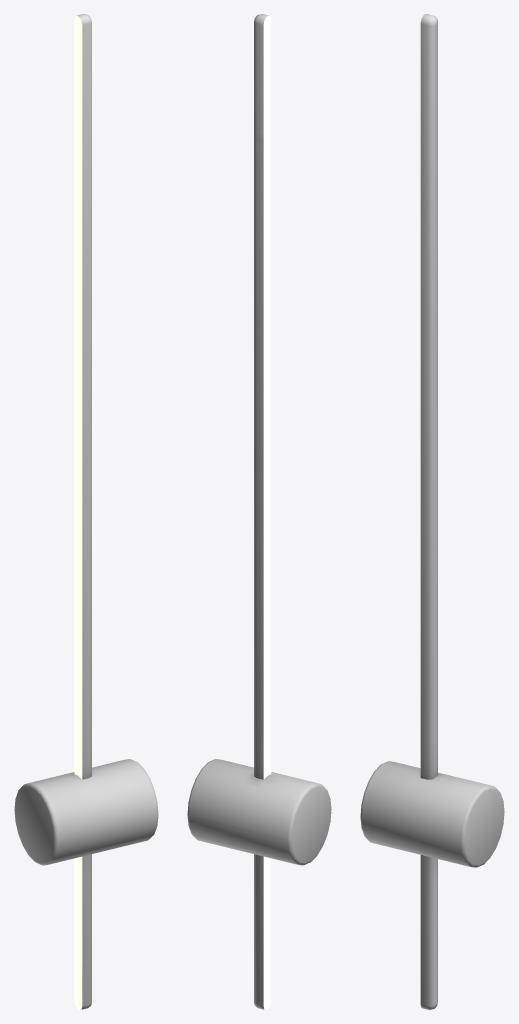
The model's file is EE_Wall_Lamp_02.gltf.
3 renders of one model, left to right at view 1: azimuth 30°, elevation 25°; view 2: azimuth 150°, elevation 25°; view 3: azimuth 330°, elevation 25°, orthographic.
Parts seen in each view (by area): view 1: EE_Wall_Lamp_02.001; view 2: EE_Wall_Lamp_02.001; view 3: EE_Wall_Lamp_02.001.
Part boxes in pixels (left/top/right/bottom): EE_Wall_Lamp_02.001: left=14, top=14, right=158, bottom=1009; EE_Wall_Lamp_02.001: left=187, top=14, right=331, bottom=1009; EE_Wall_Lamp_02.001: left=360, top=14, right=504, bottom=1009.
Size of what is drawn, in the model's own units: 0.1484 by 1.35 by 0.1044.
2 materials, 1 textured.
